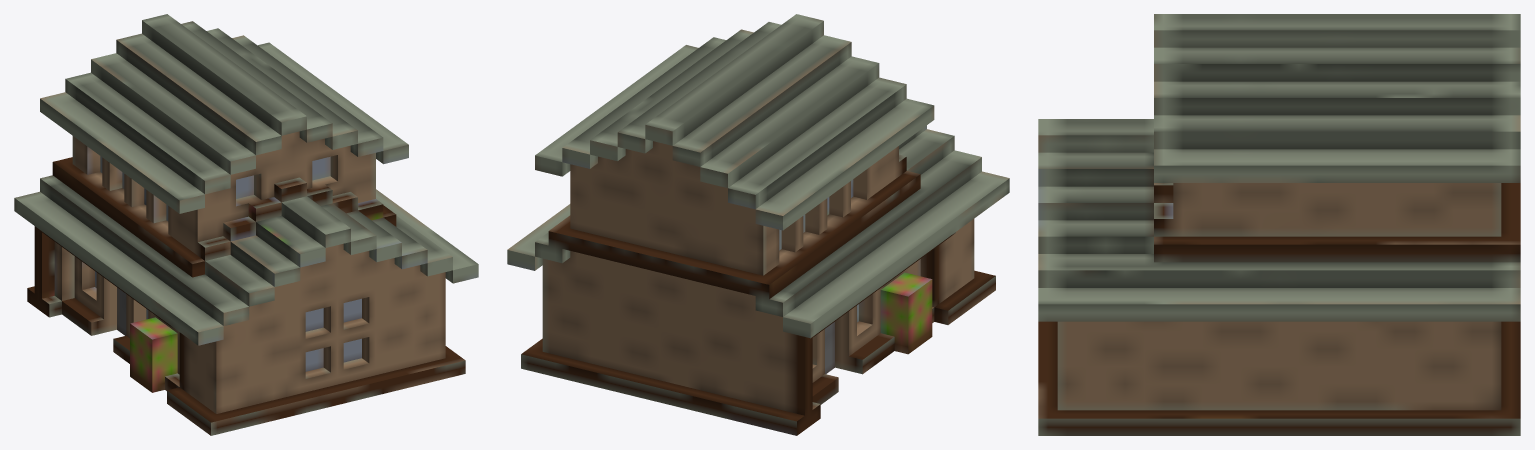
The model's file is little home.fbx.
3 views of the same model, side by side, from view 1: azimuth 30°, elevation 25°; view 2: azimuth 150°, elevation 25°; view 3: azimuth 270°, elevation 25° (orthographic). The views are drawn at different scales.
Visible parts, largest first — view 1: Untitled; view 2: Untitled; view 3: Untitled.
Boxes of the visible parts, <box> form: Untitled: <box>14,14,478,435</box>; Untitled: <box>507,14,1009,435</box>; Untitled: <box>1038,14,1520,435</box>.
Bounding box in the file's own units: 220 × 190 × 250.
1 material, 1 textured.
